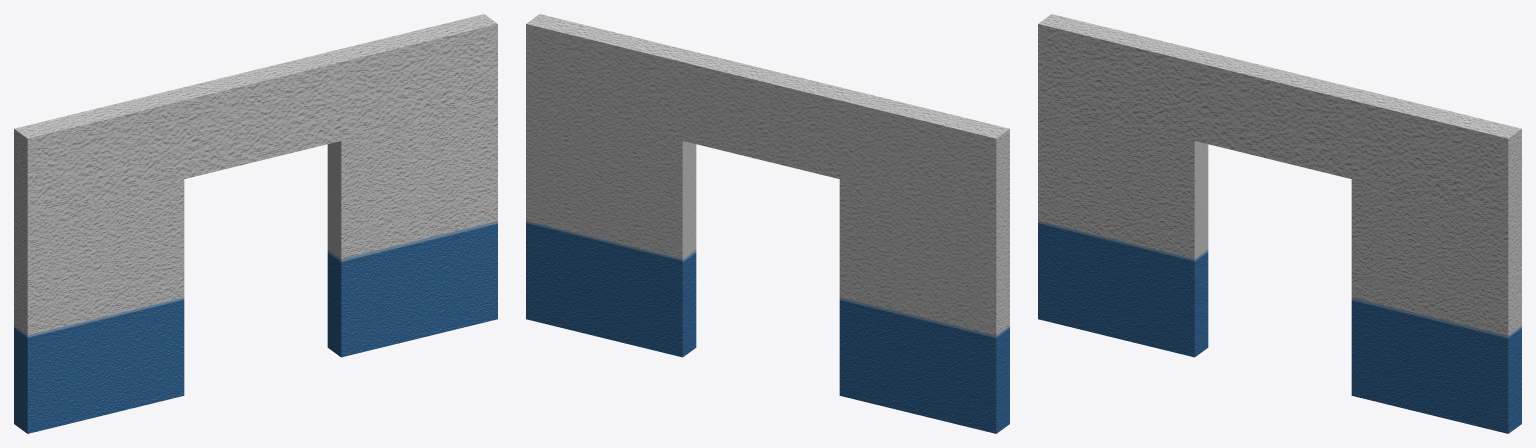
The model's file is door_wall.fbx.
3 views of the same model, side by side, from view 1: azimuth 30°, elevation 25°; view 2: azimuth 150°, elevation 25°; view 3: azimuth 330°, elevation 25° (orthographic).
Parts seen in each view (by area): view 1: Plane.002; view 2: Plane.002; view 3: Plane.002.
Part boxes in pixels (left/top/right/bottom): Plane.002: left=14, top=14, right=497, bottom=433; Plane.002: left=526, top=14, right=1009, bottom=433; Plane.002: left=1038, top=14, right=1521, bottom=433.
Bounding box in the file's own units: 1000 × 600 × 50.
Materials: 1 (1 with a texture image).
